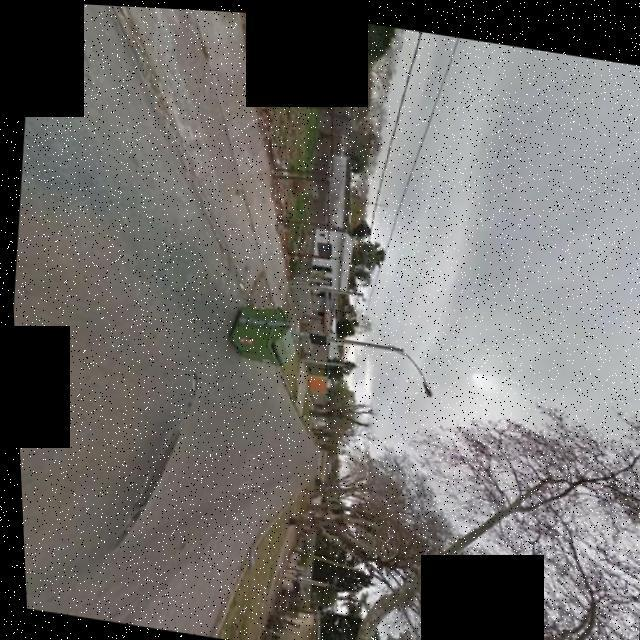bin: (208, 279, 302, 375)
